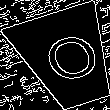O_S: (32, 27, 102, 90)
